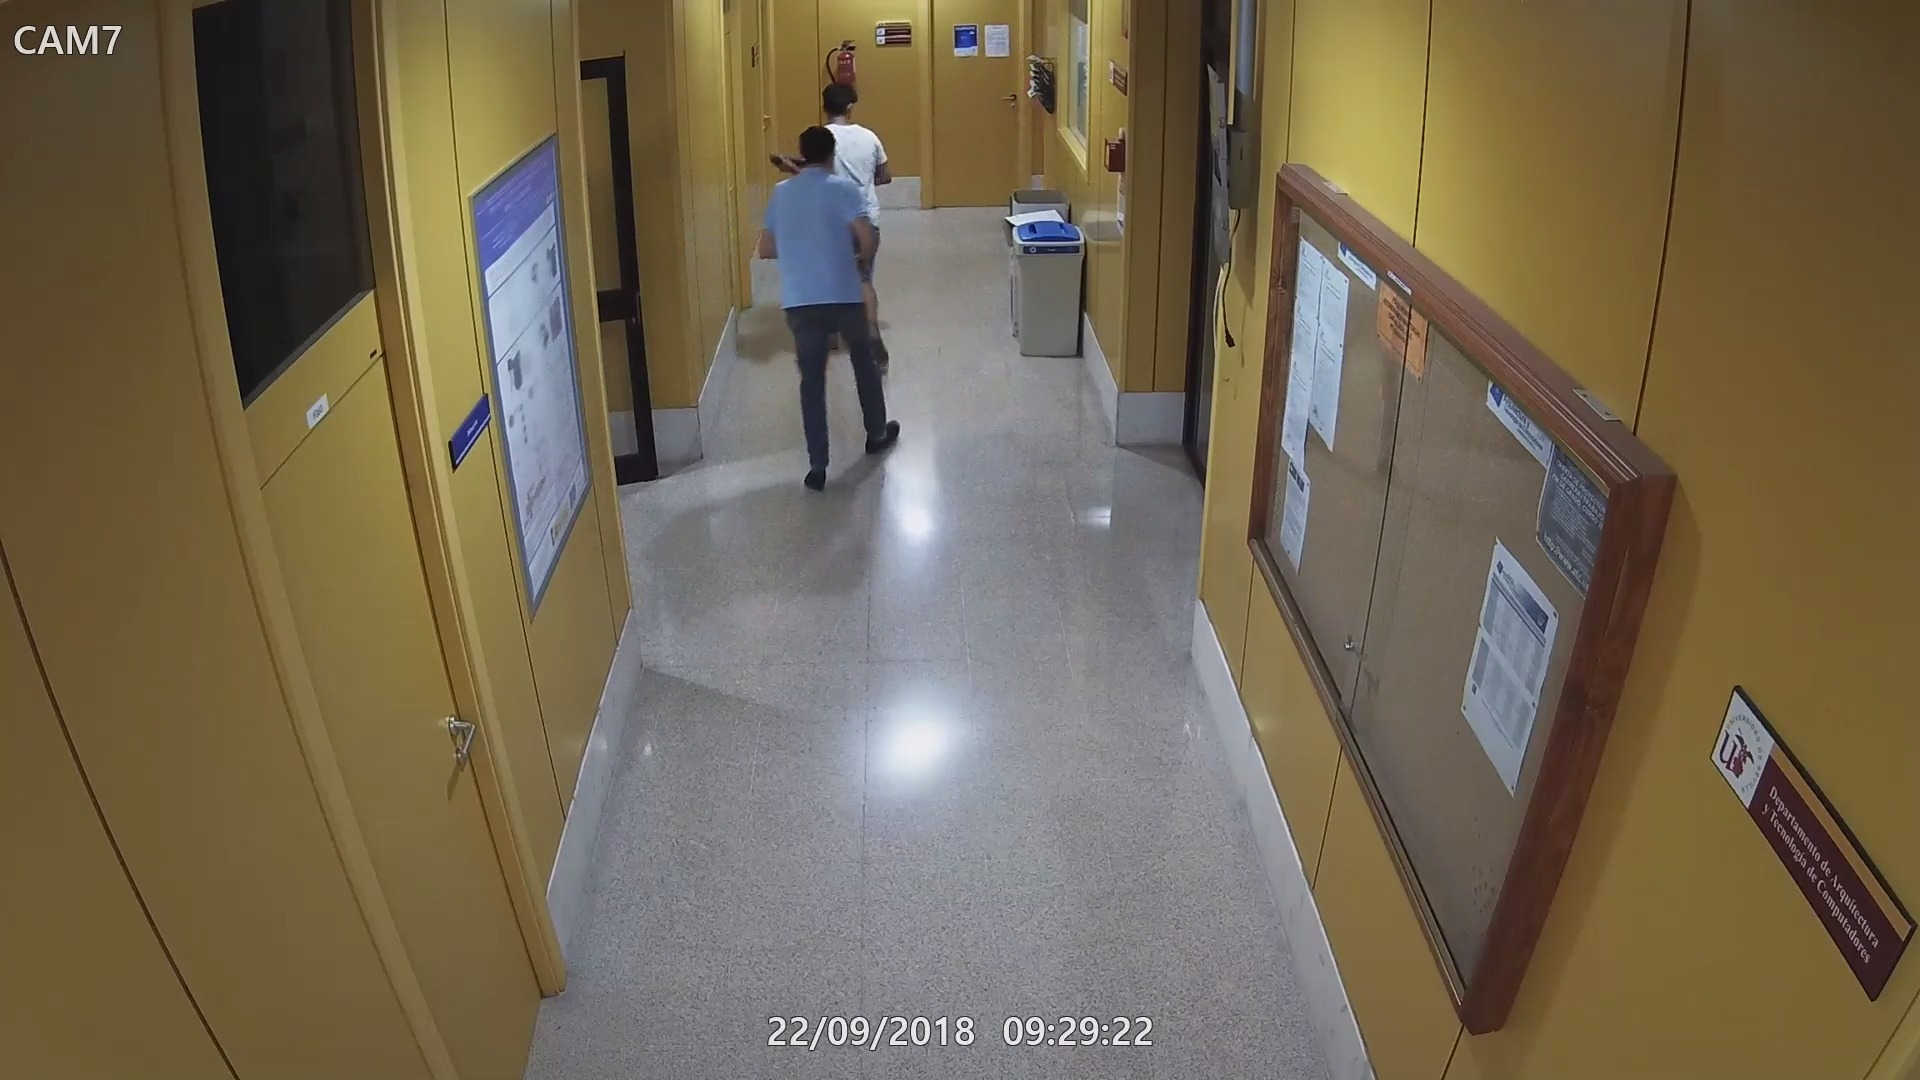Short_rifle: (765, 150, 814, 177)
